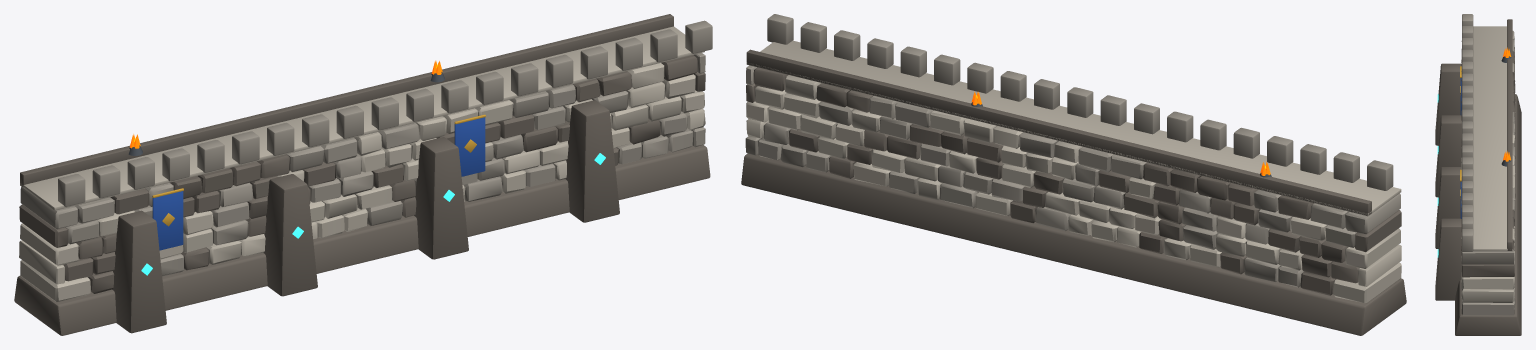
The model's file is mur_bok_4.glb.
3 renders of one model, left to right at view 1: azimuth 30°, elevation 25°; view 2: azimuth 150°, elevation 25°; view 3: azimuth 270°, elevation 25°, orthographic. The views are drawn at different scales.
Visible parts, largest first — view 1: mur_bok_4; view 2: mur_bok_4; view 3: mur_bok_4.
Part boxes in pixels (left/top/right/bottom): mur_bok_4: left=14, top=14, right=712, bottom=335; mur_bok_4: left=741, top=14, right=1406, bottom=335; mur_bok_4: left=1435, top=14, right=1521, bottom=335.
Bounding box in the file's own units: 28.3 × 6.12 × 4.6.
